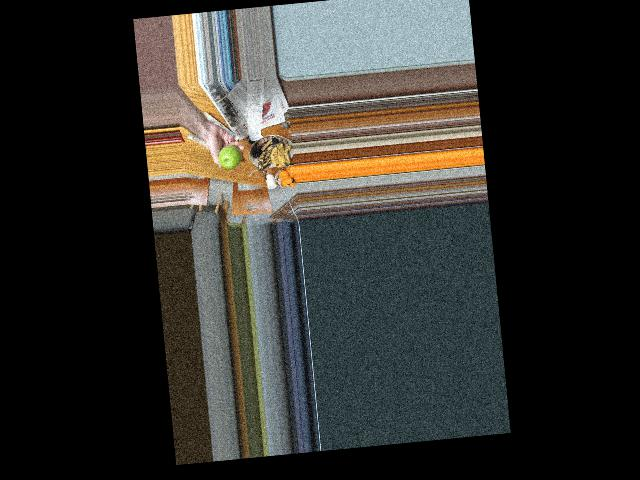apple: (217, 143, 243, 170)
